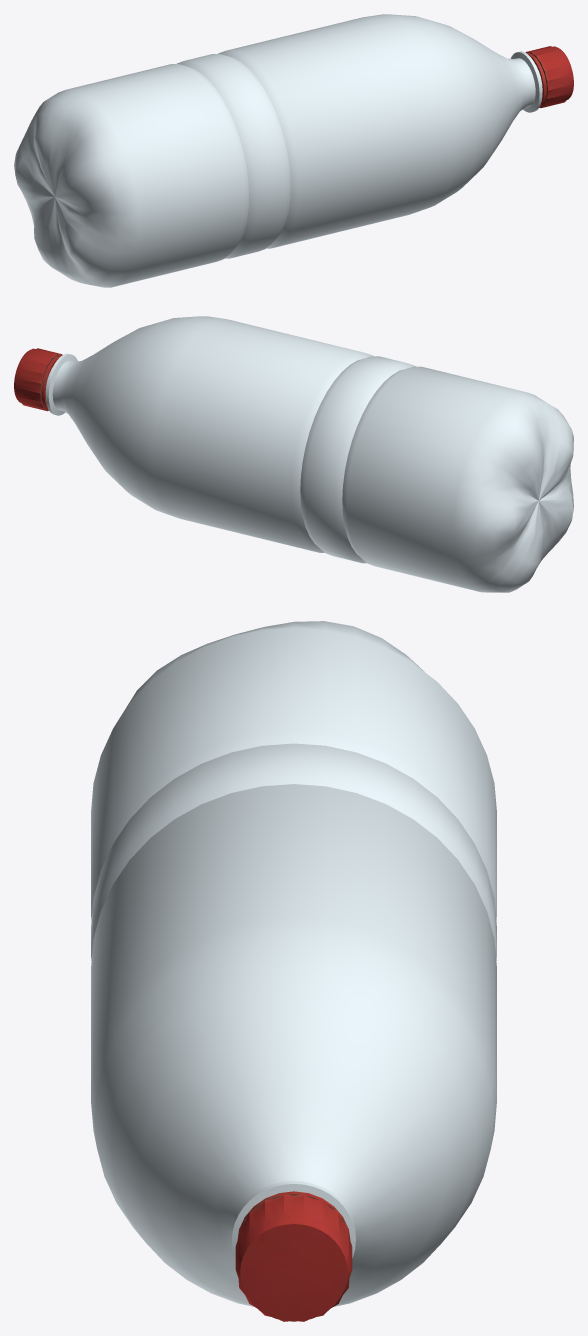
The model's file is garrafa_pet_agua_limpa.glb.
3 renders of one model, top to bottom at view 1: azimuth 30°, elevation 25°; view 2: azimuth 150°, elevation 25°; view 3: azimuth 270°, elevation 25°, orthographic. The views are drawn at different scales.
Visible parts, largest first — view 1: casca, tampa; view 2: casca, tampa; view 3: casca, tampa.
Boxes of the visible parts, <box> form: casca: <box>14,14,542,287</box>; tampa: <box>525,46,573,107</box>; casca: <box>45,316,573,592</box>; tampa: <box>14,348,62,411</box>; casca: <box>91,621,496,1306</box>; tampa: <box>235,1191,352,1321</box>.
Size of the model in its own units: 0.322 by 0.11 by 0.11.
Materials: 3 (1 with a texture image).
